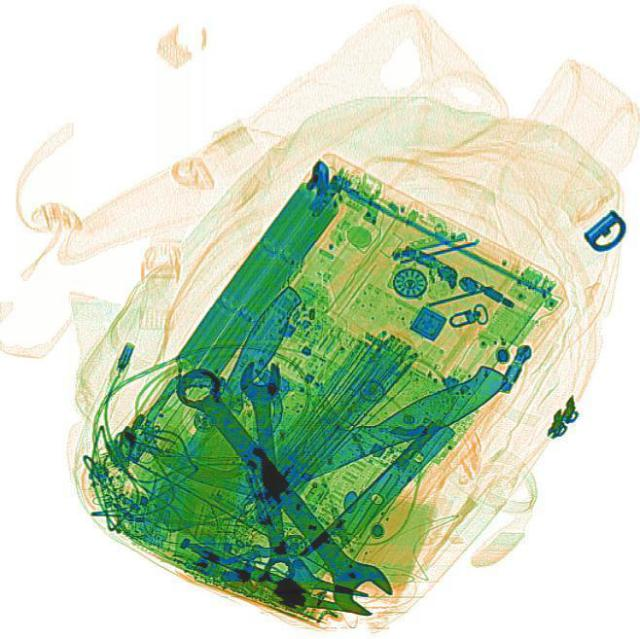Knife: (126, 312, 514, 537)
Wrench: (156, 354, 398, 625), (235, 358, 298, 580)
